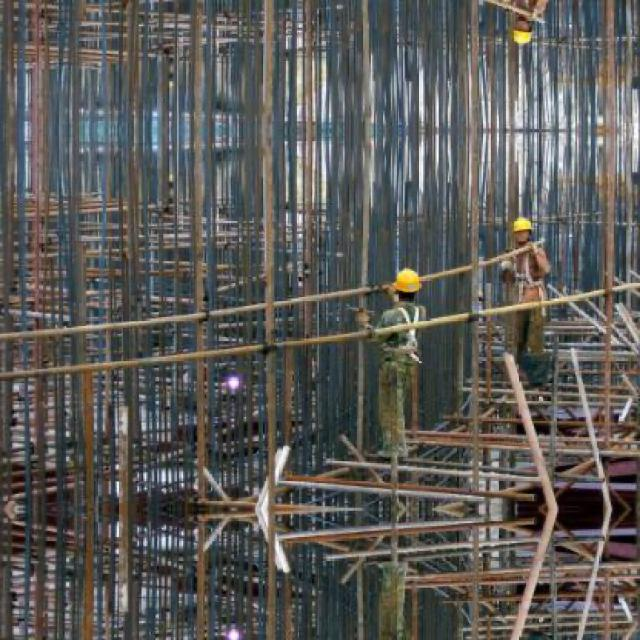con casco: (497, 204, 545, 251), (382, 266, 430, 307)
